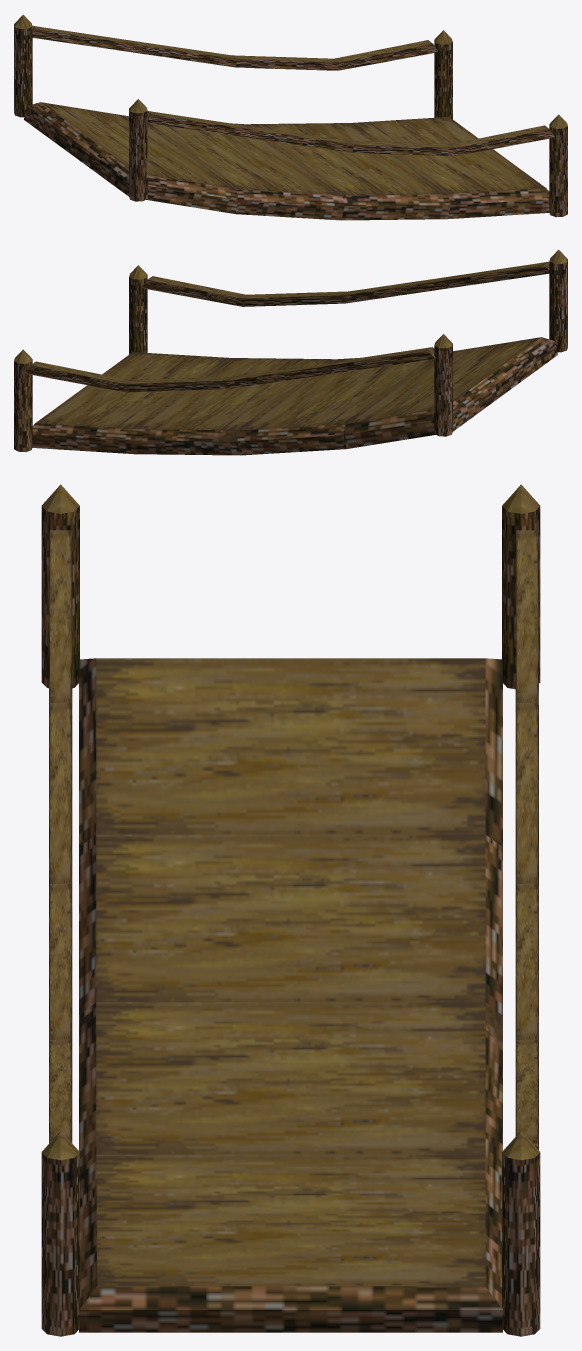
Rendered from bridge.fbx.
3 views of the same model, one above another, from view 1: azimuth 30°, elevation 25°; view 2: azimuth 150°, elevation 25°; view 3: azimuth 270°, elevation 25° (orthographic). The views are drawn at different scales.
Visible parts, largest first — view 1: bridge; view 2: bridge; view 3: bridge.
Part boxes in pixels (box(x1,y1,x2,y2)): bridge: box(14, 14, 567, 220); bridge: box(14, 249, 567, 455); bridge: box(41, 484, 540, 1336).
Bounding box in the file's own units: 8.57 × 4.12 × 4.24.
